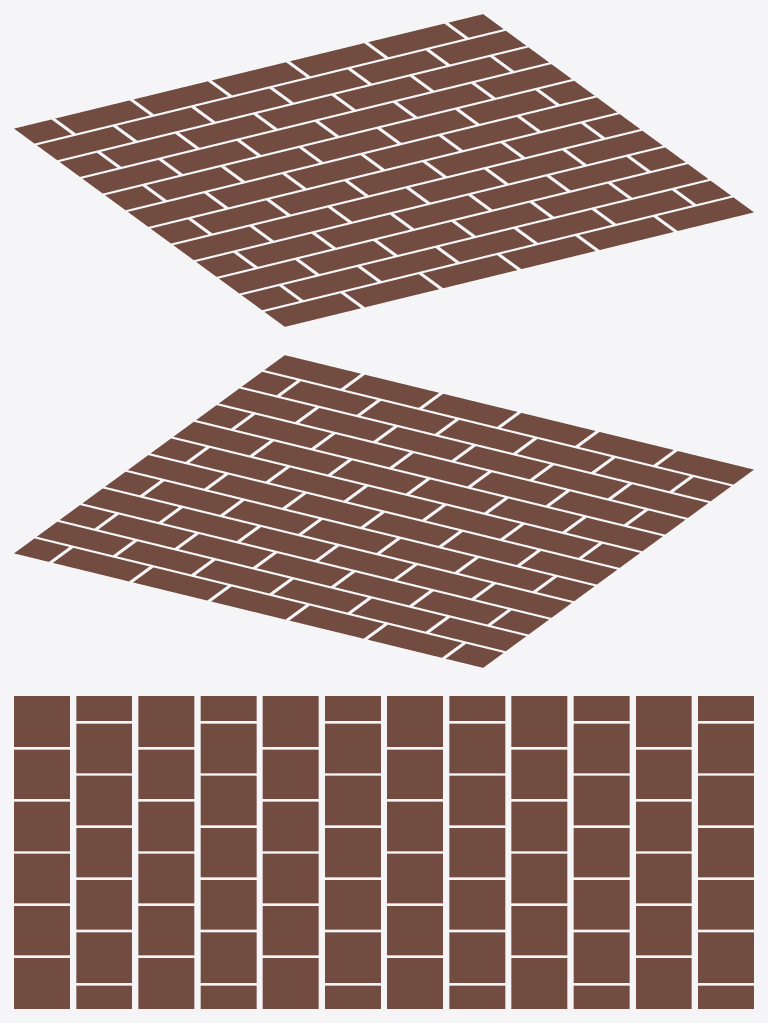
File: wall_003.glb
3 renders of one model, top to bottom at view 1: azimuth 30°, elevation 25°; view 2: azimuth 150°, elevation 25°; view 3: azimuth 270°, elevation 25°, orthographic. The views are drawn at different scales.
Visible parts, largest first — view 1: wall_003; view 2: wall_003; view 3: wall_003.
Part boxes in pixels (x1,y1,x2,y2): wall_003: (14, 14, 753, 326); wall_003: (14, 355, 753, 667); wall_003: (14, 696, 753, 1008).
Size of the model in its own units: 4 by 6.52e-07 by 4.
1 material, 1 textured.
